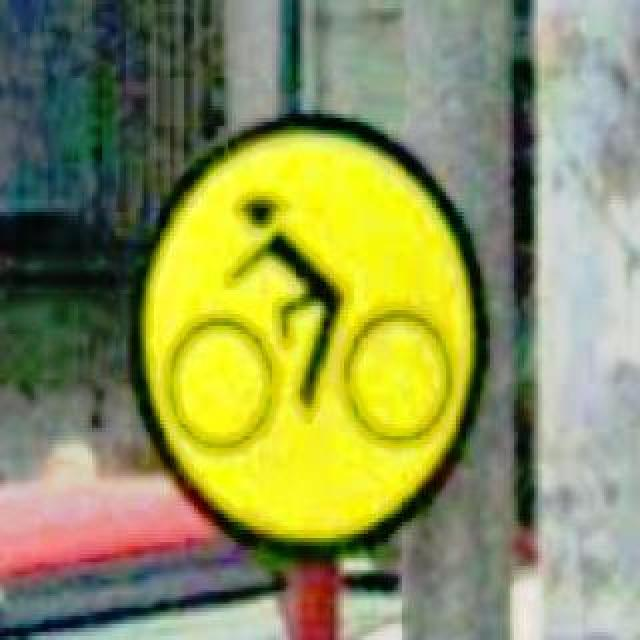bike lane: (130, 106, 490, 562)
